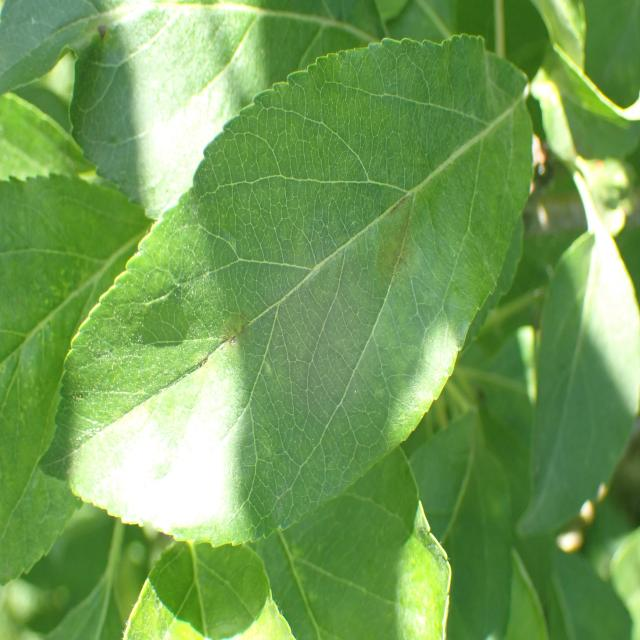scab: (76, 160, 468, 478)
